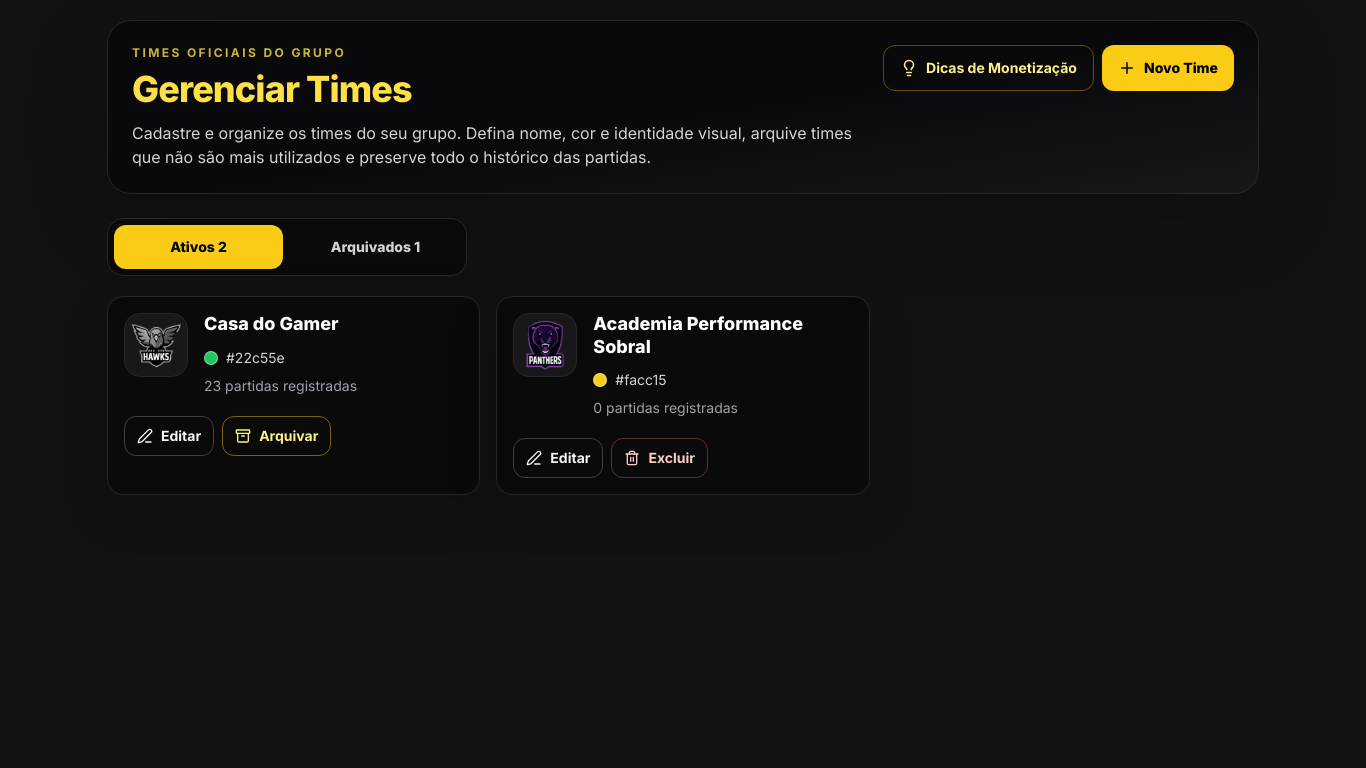
Test: GerenciarTimesPage › mostra aviso ao editar time com histórico
Step 1. Click the button with aria-label "Editar Casa do Gamer" → (169, 436), box x1=124 y1=416 x2=214 y2=456
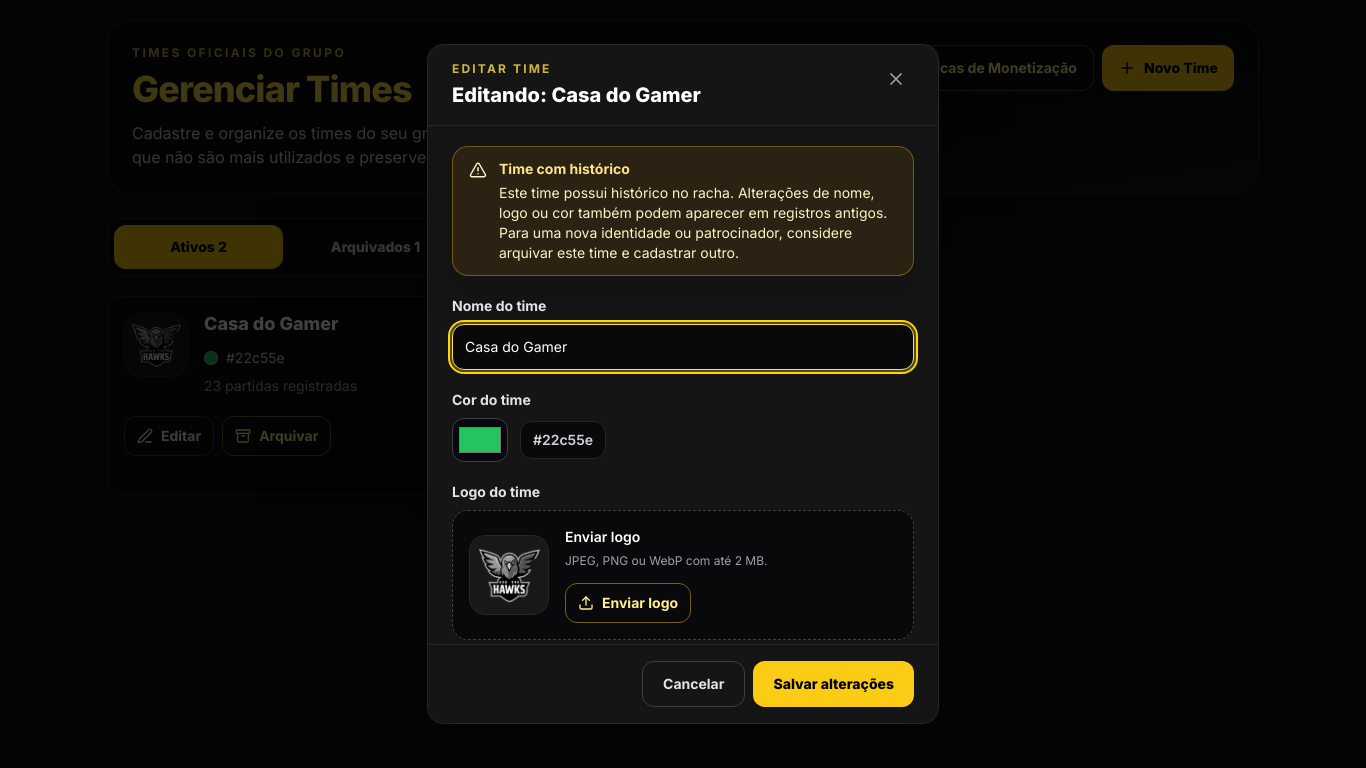
Now the heading "Editando: Casa do Gamer" is shown, box x1=452 y1=81 x2=701 y2=109
Now the text "Time com histórico" is shown, box x1=499 y1=160 x2=630 y2=177
Now the text "Alterações de nome, logo ou cor também podem aparecer em registros antigos" is shown, box x1=499 y1=184 x2=887 y2=261
